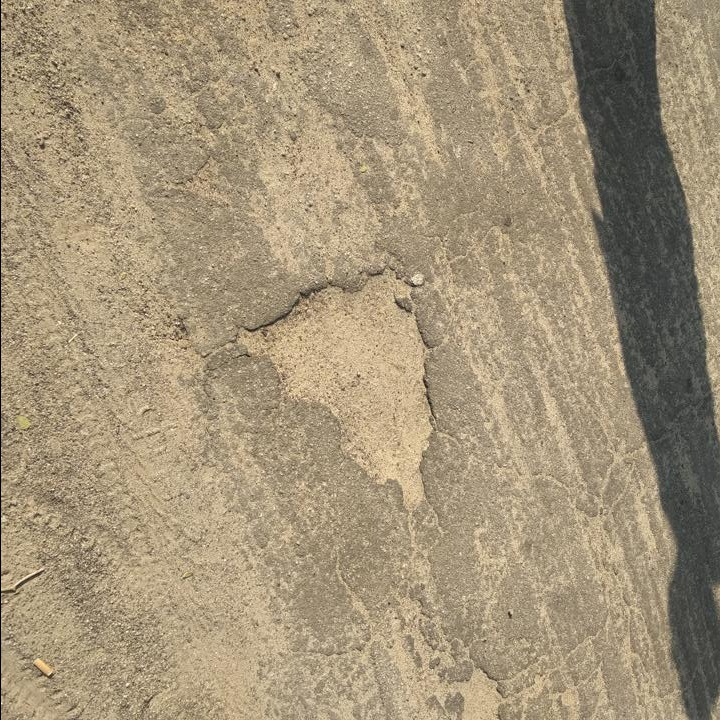pothole: (234, 255, 440, 516), (454, 660, 506, 719)
